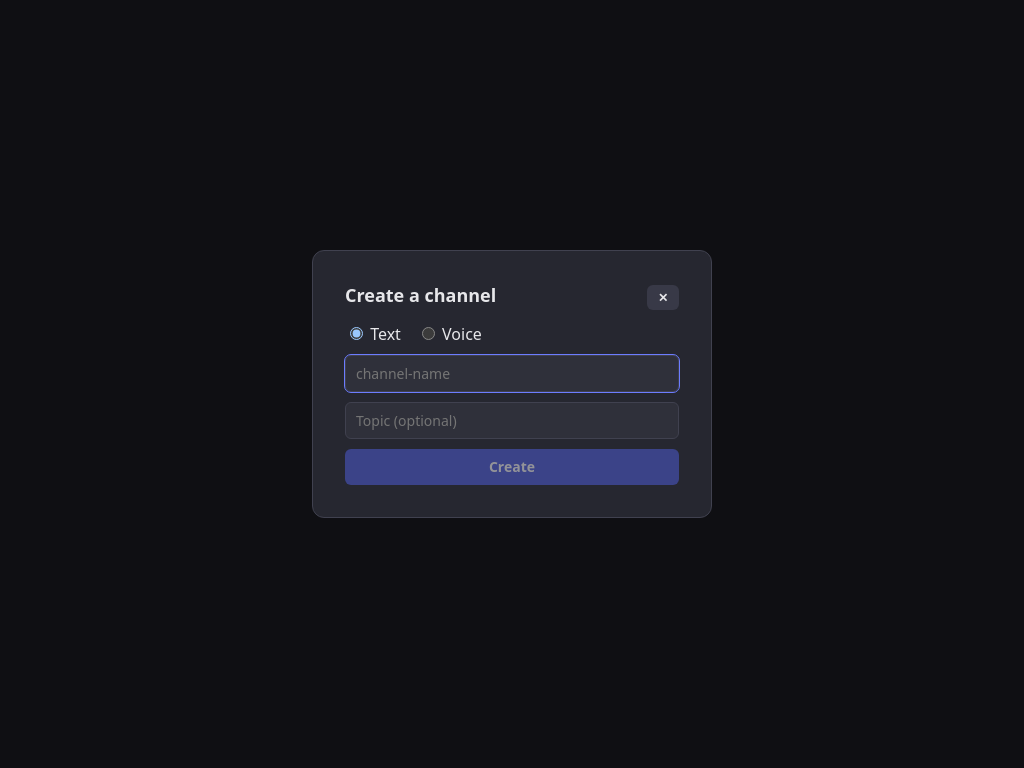
it: making a channel on a server with voice › says something went wrong for any other failure
Check: the element named "Channel type" is shown, box [350, 323, 482, 345]
Type "general" into the field with placeholder "channel-name".
click(512, 374); type("general")  # box [345, 355, 679, 392]
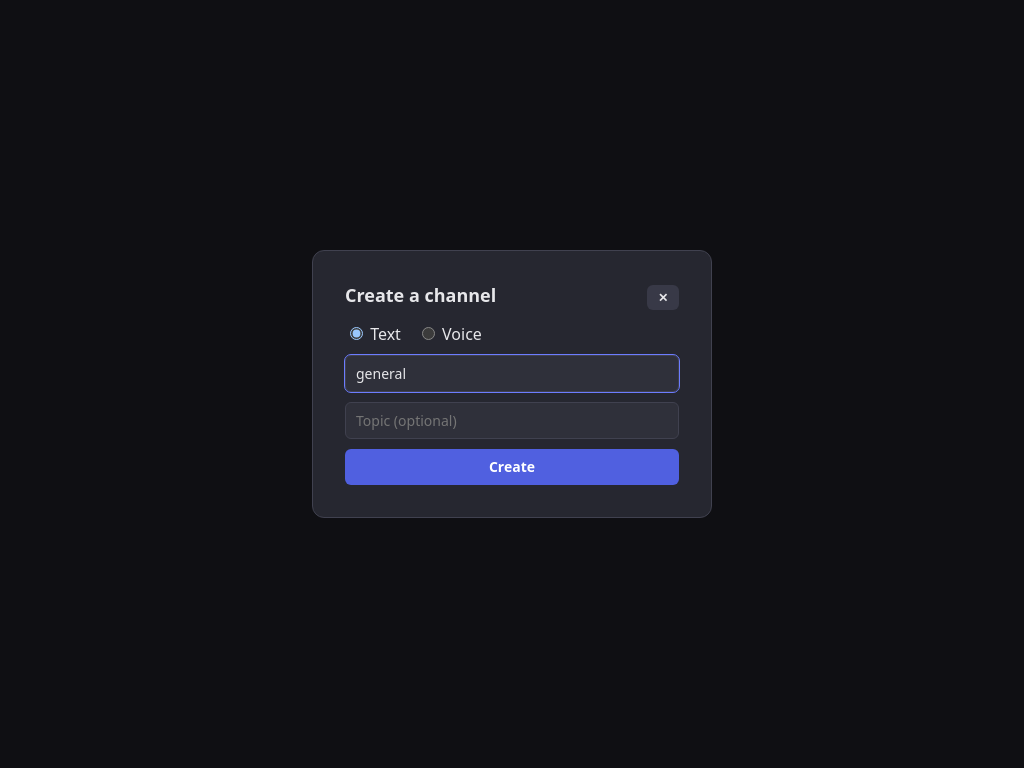
Click the button "Create".
click(512, 467)  # box [345, 449, 679, 485]
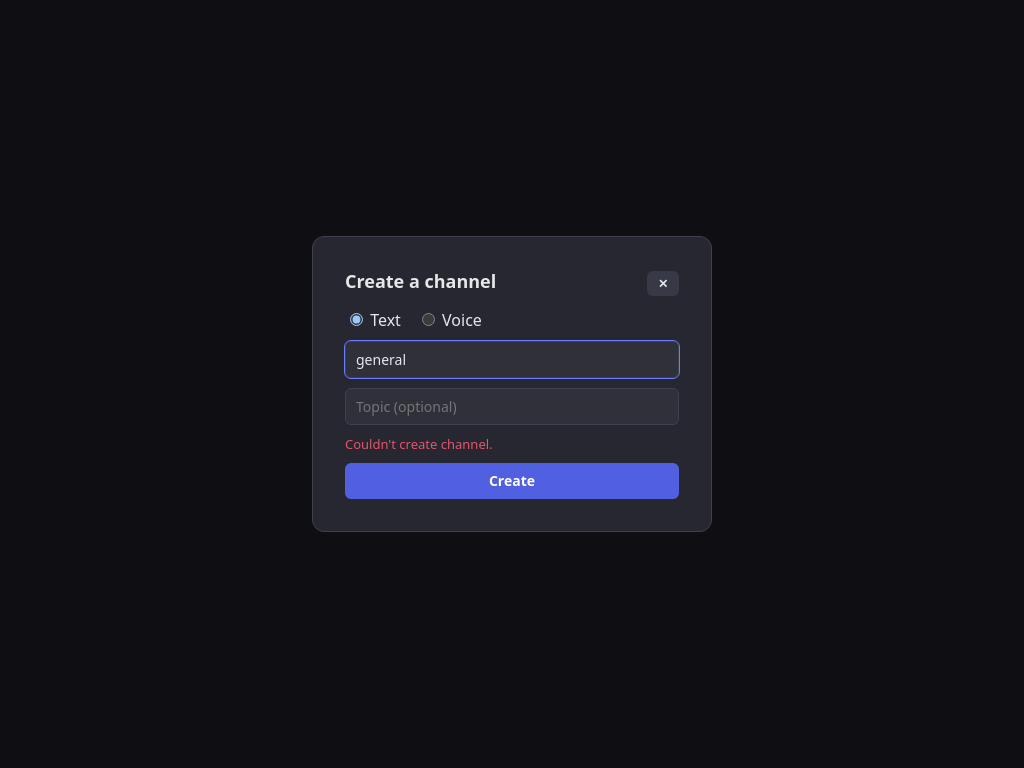
Check: the text "Couldn't create channel." is shown, box [345, 435, 493, 453]
